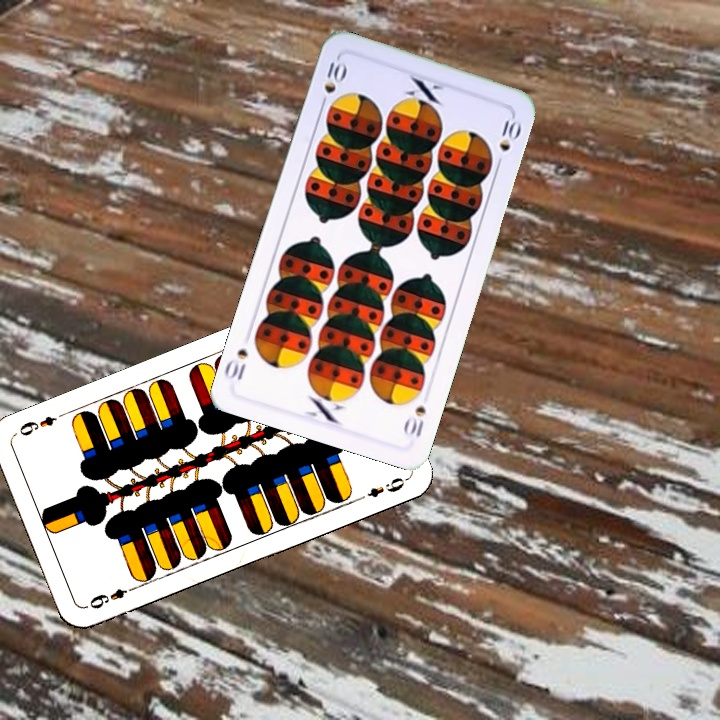E9: (85, 582, 140, 612)
S10: (316, 54, 349, 111), (399, 402, 429, 440)
